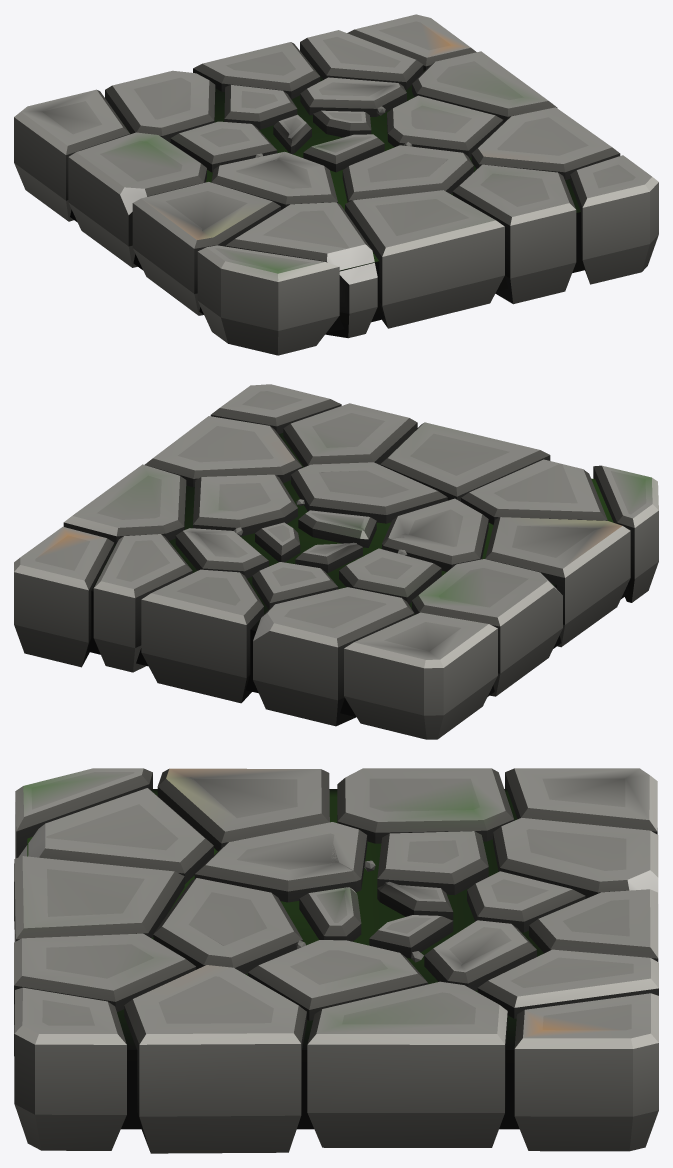
File: crumble_mountain.glb
The picture shows the model from 3 angles, top to bottom: view 1: azimuth 30°, elevation 25°; view 2: azimuth 150°, elevation 25°; view 3: azimuth 270°, elevation 25°; orthographic projection. The views are drawn at different scales.
Parts seen in each view (by area): view 1: crumble_mountain; view 2: crumble_mountain; view 3: crumble_mountain.
Part boxes in pixels (box(x1,y1,x2,y2)): crumble_mountain: box(14, 14, 658, 355); crumble_mountain: box(14, 384, 658, 739); crumble_mountain: box(14, 768, 658, 1153).
Bounding box in the file's own units: 2.4 × 0.5 × 2.4.
